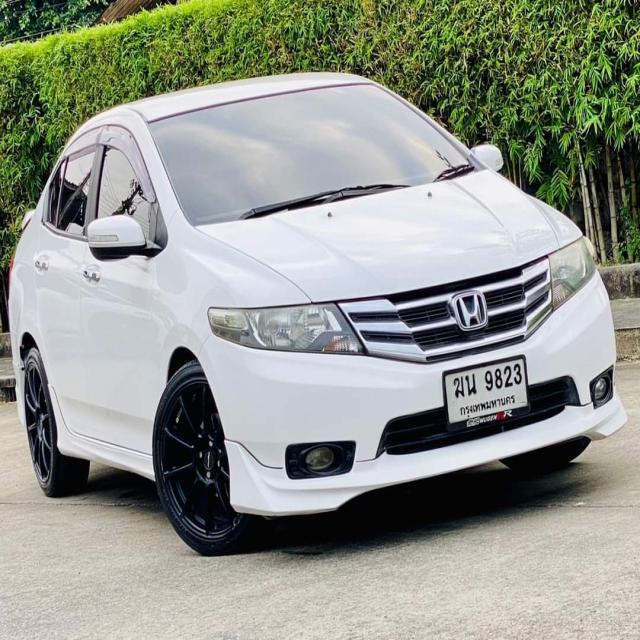license_plate: (442, 354, 532, 435)
